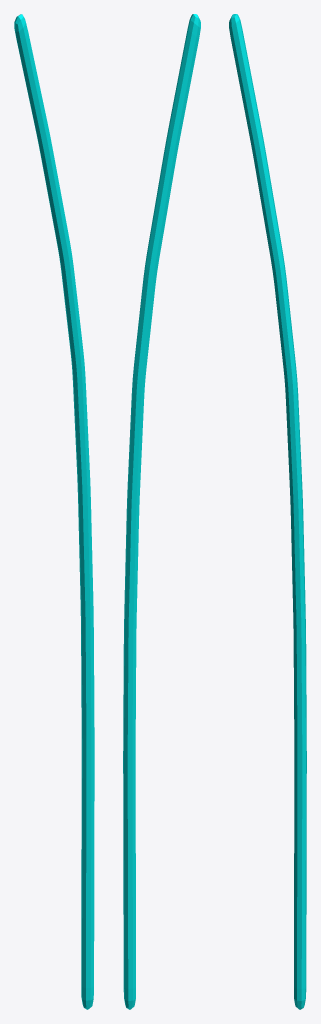
File: new Stem.fbx
3 renders of one model, left to right at view 1: azimuth 30°, elevation 25°; view 2: azimuth 210°, elevation 25°; view 3: azimuth 330°, elevation 25°, orthographic. The views are drawn at different scales.
Visible parts, largest first — view 1: Plane; view 2: Plane; view 3: Plane.
Part boxes in pixels (<box>): Plane: <box>14,14,94,1009</box>; Plane: <box>123,14,200,1009</box>; Plane: <box>229,14,306,1009</box>.
Size of the model in its own units: 44.5 by 548 by 6.37.
